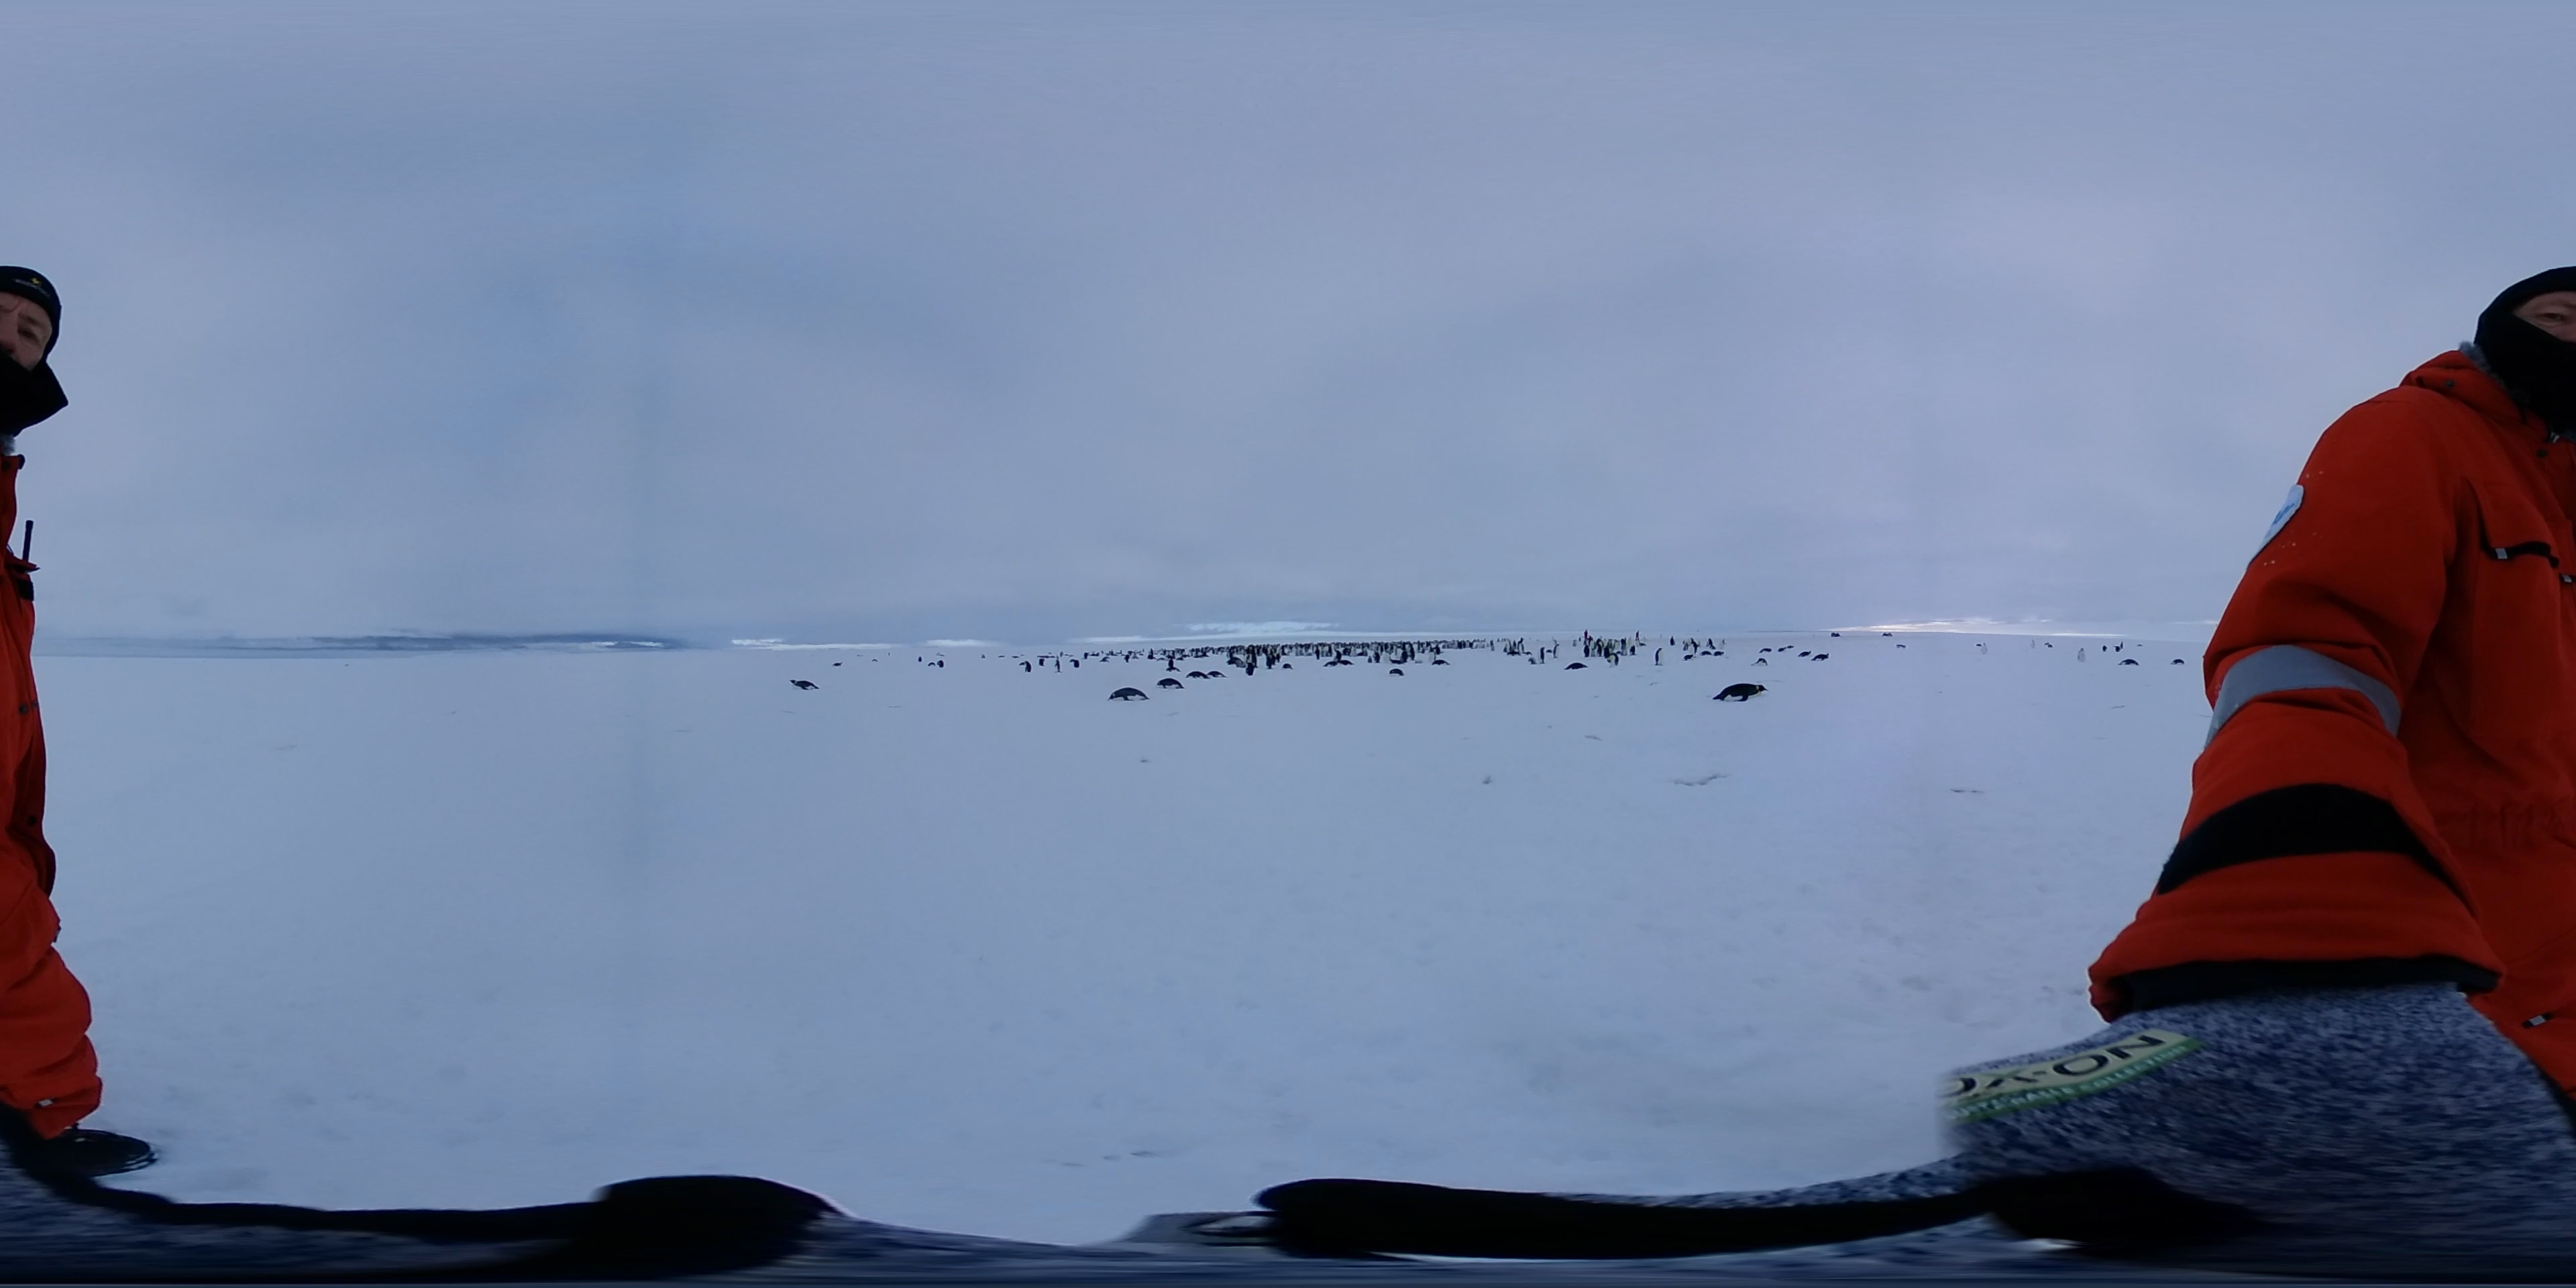adult_toboggan_penguin: (1709, 682, 1769, 706), (1106, 687, 1153, 705), (787, 677, 821, 692), (1153, 677, 1186, 690), (1186, 667, 1207, 682), (1204, 669, 1227, 680)
researcher: (2101, 238, 2576, 1191), (0, 255, 85, 1165)
